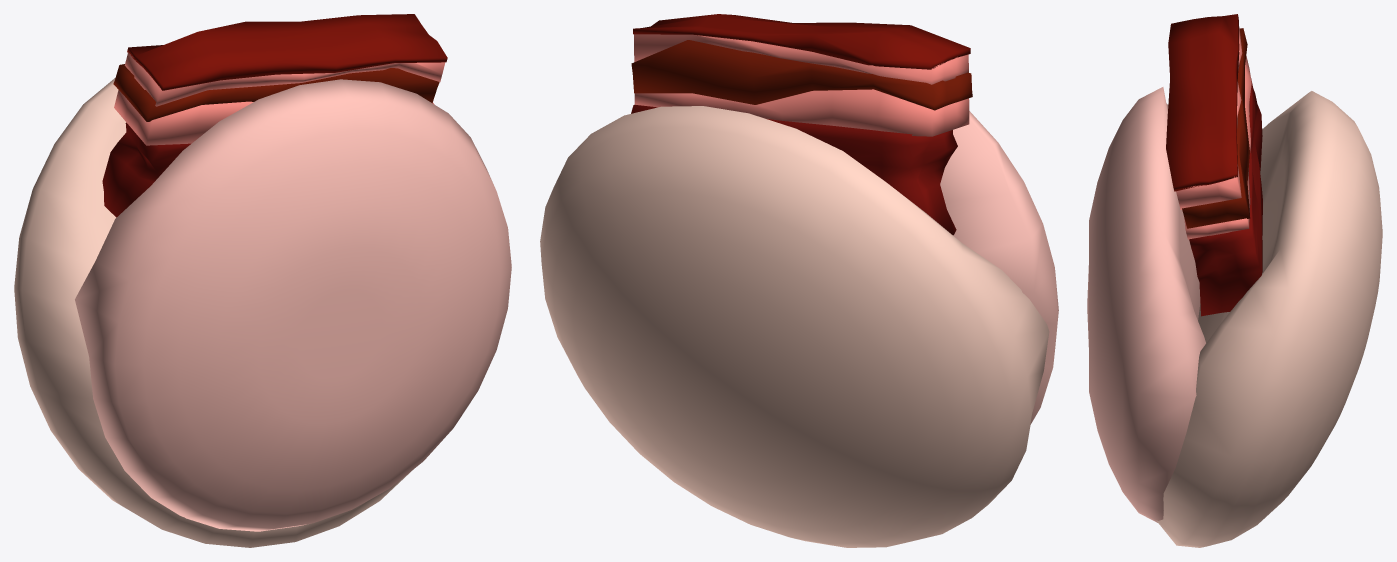
Rendered from 角煮まん.fbx.
3 renders of one model, left to right at view 1: azimuth 30°, elevation 25°; view 2: azimuth 150°, elevation 25°; view 3: azimuth 270°, elevation 25°, orthographic. The views are drawn at different scales.
Visible parts, largest first — view 1: Cube; view 2: Cube; view 3: Cube.
Part boxes in pixels (<box>): Cube: <box>14,14,511,547</box>; Cube: <box>540,14,1058,547</box>; Cube: <box>1087,14,1382,547</box>.
Bounding box in the file's own units: 317 × 339 × 197.
